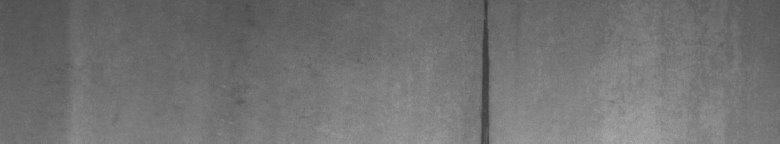hd: (466, 4, 496, 136)
